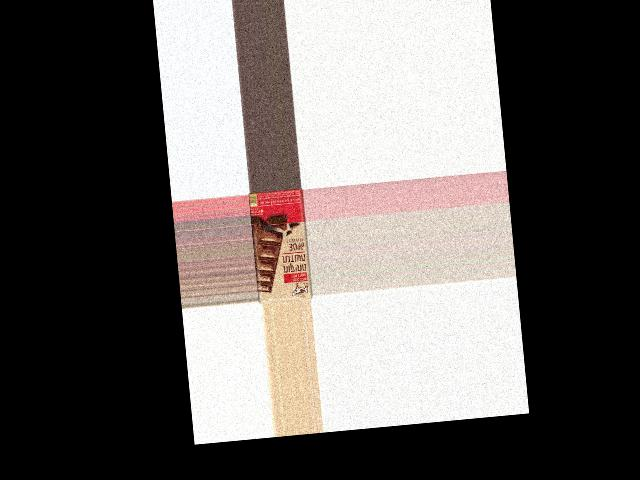chocolate: (248, 188, 313, 304)
